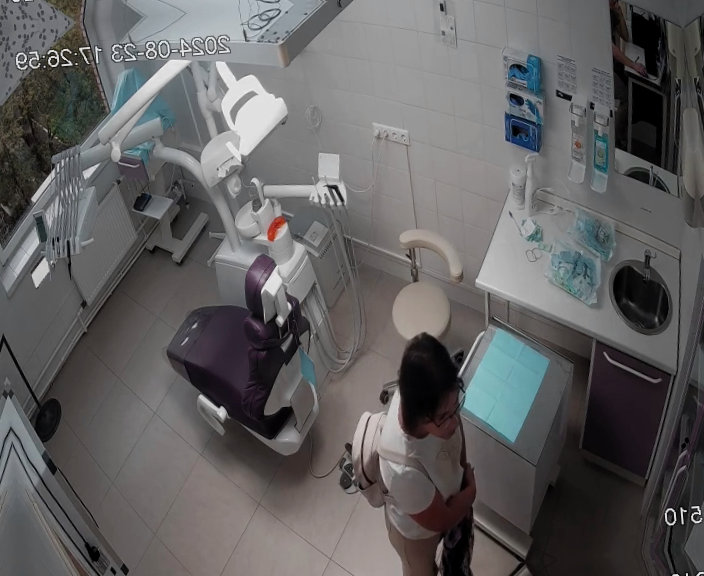Empty: (157, 251, 353, 470)
